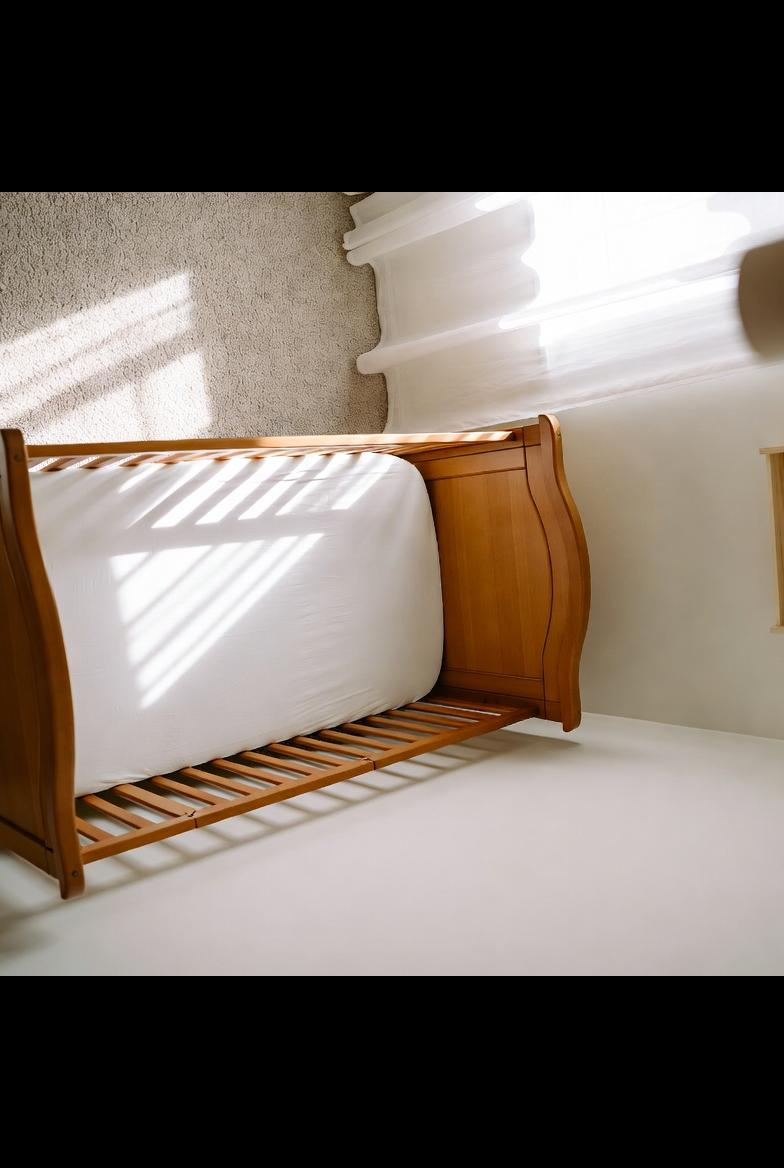crib: (0, 410, 601, 910)
